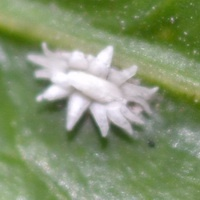insect: (27, 43, 157, 136)
